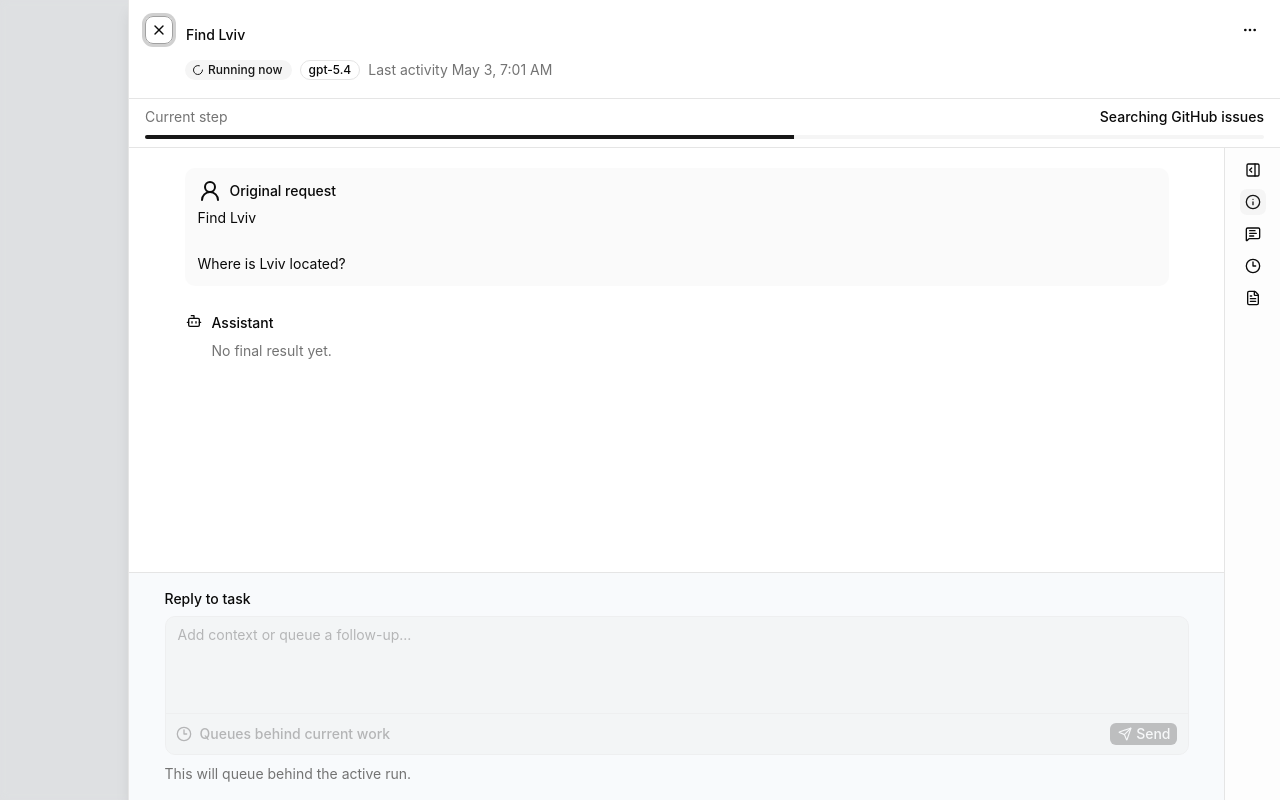
TaskModal › summarizes raw tool progress in the current step and keeps details in the run log
The width and height of the screenshot is (1280, 800).
Click the button named "Open Runs" at (1252, 266), box [1238,252,1266,280]
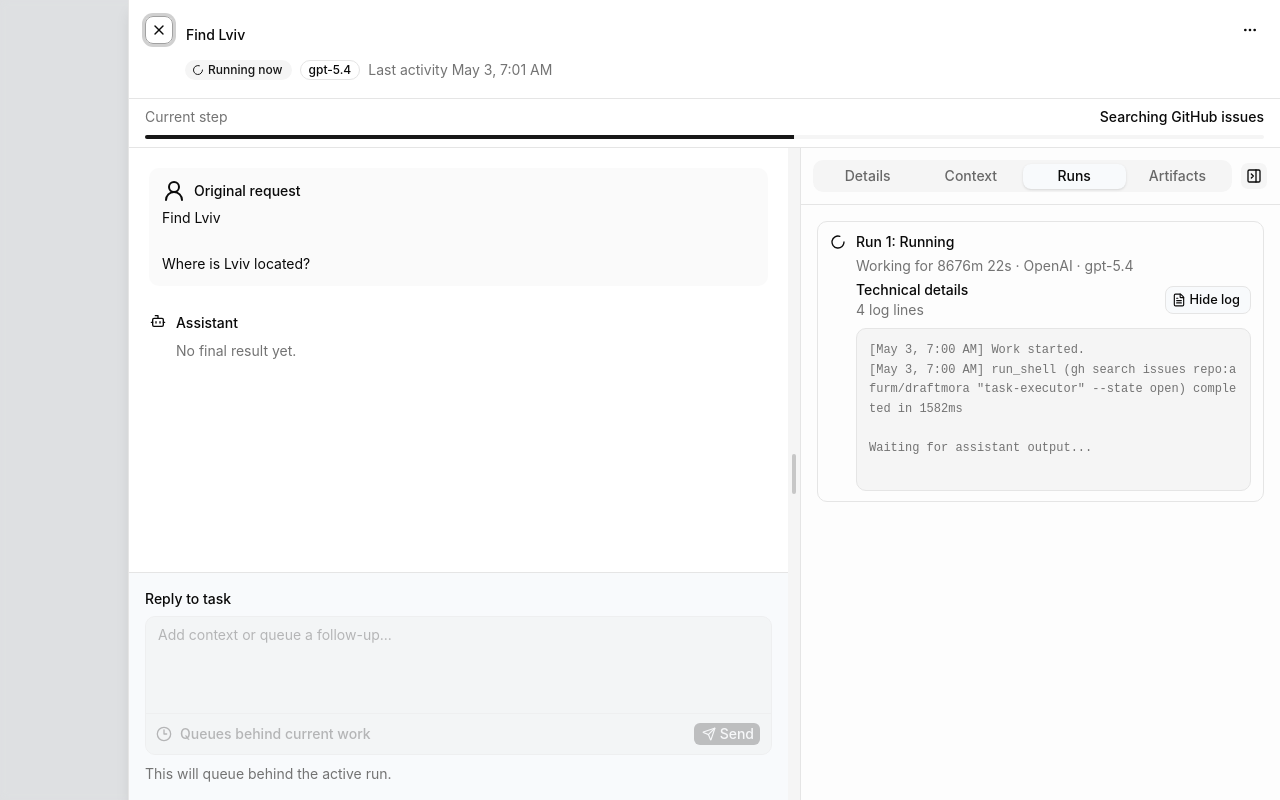
Result: the text "run_shell (gh search issues repo:afurm/draftmora \"task-executor\" --state open) completed in 1582ms" is shown at [869,343,1236,455]
